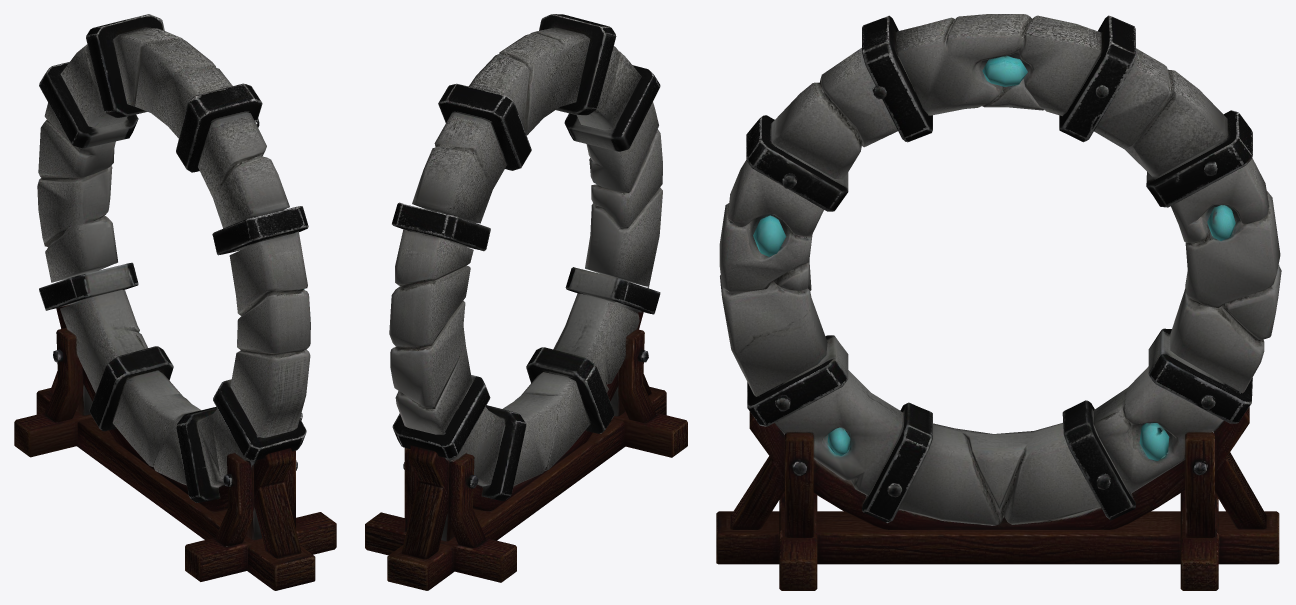
File: tripo_convert_e8576261-f246-4d51-8ecb-37918aa81f86.fbx
3 views of the same model, side by side, from view 1: azimuth 30°, elevation 25°; view 2: azimuth 150°, elevation 25°; view 3: azimuth 270°, elevation 25° (orthographic). The views are drawn at different scales.
Parts seen in each view (by area): view 1: tripo_node_e8576261; view 2: tripo_node_e8576261; view 3: tripo_node_e8576261.
Boxes of the visible parts, <box> form: tripo_node_e8576261: <box>14,14,336,590</box>; tripo_node_e8576261: <box>365,14,687,590</box>; tripo_node_e8576261: <box>716,14,1281,590</box>.
Size of the model in its own units: 0.3184 by 0.998 by 0.9629.
1 material, 1 textured.
